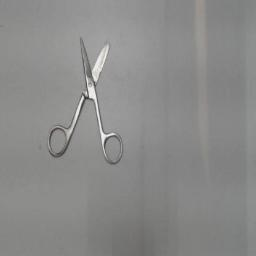Dressing Scissors: (44, 26, 128, 168)
